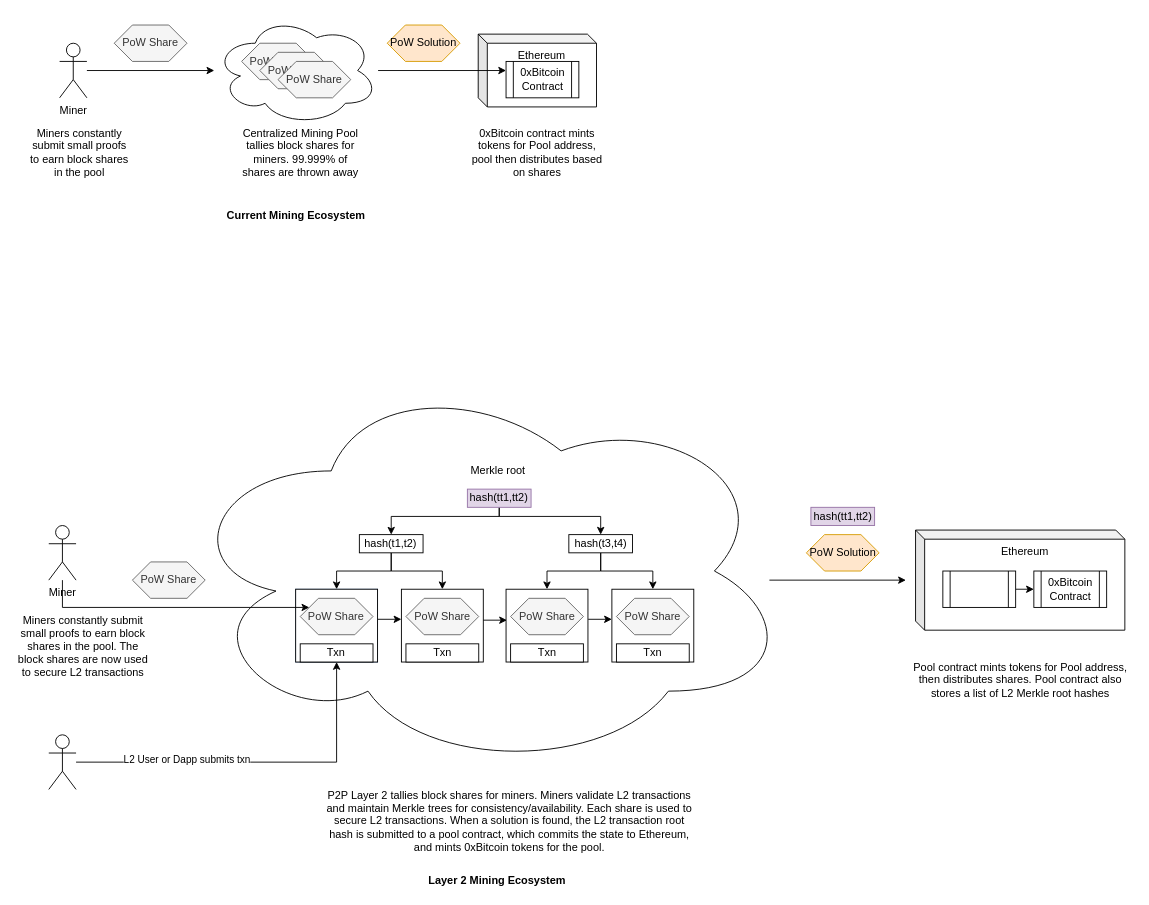
Some shapes in this 1149 by 905 pixel diagram are drawn without their labels. The shapes that lost their labels are listed below. From the top down, each one's box as (x1, y1, x2, y2) in pixels, then its label:
(942, 570, 1016, 607): Pool Contract
(48, 734, 76, 789): L2 User/Dapp
